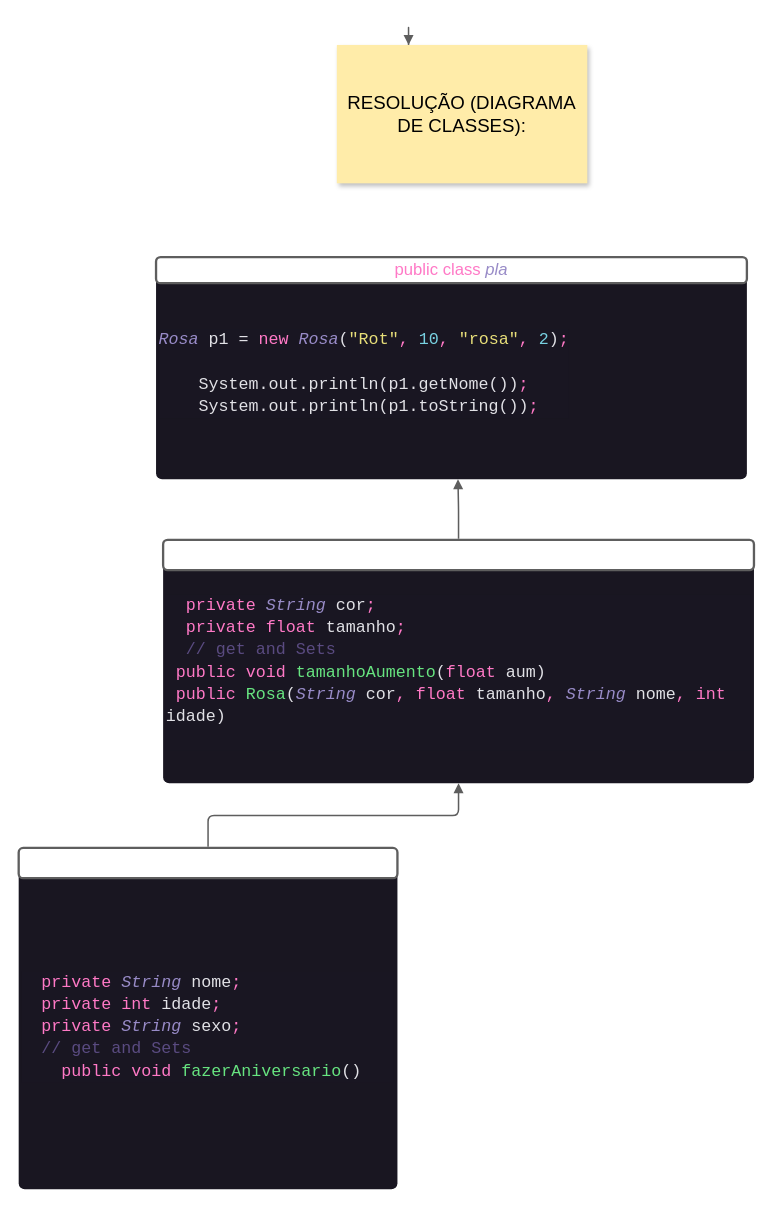
The diagram is 773 pixels wide and 1208 high, and some of its shapes have lost their labels. The shapes that lost their labels are listed below. From the top down, each one's centre as x and y in pixels, then its label:
At point (458, 554): "public class Rosa extends Planta".
At point (207, 862): "public class Planta".
